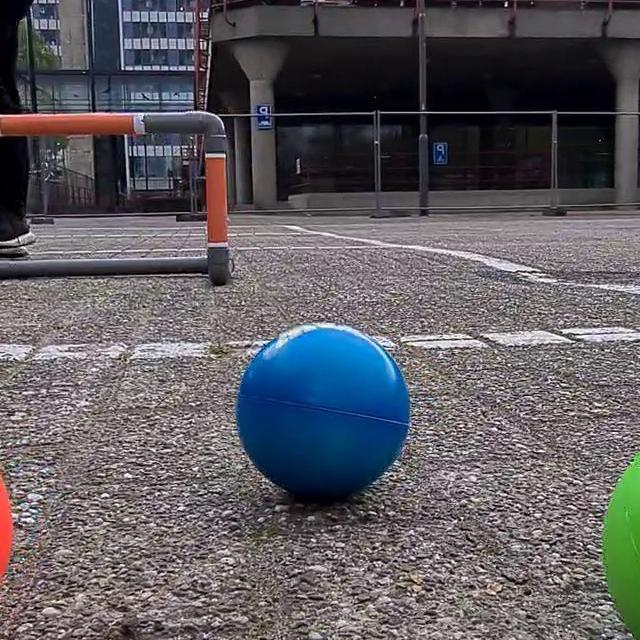ball: (234, 319, 415, 507), (597, 450, 640, 637)
